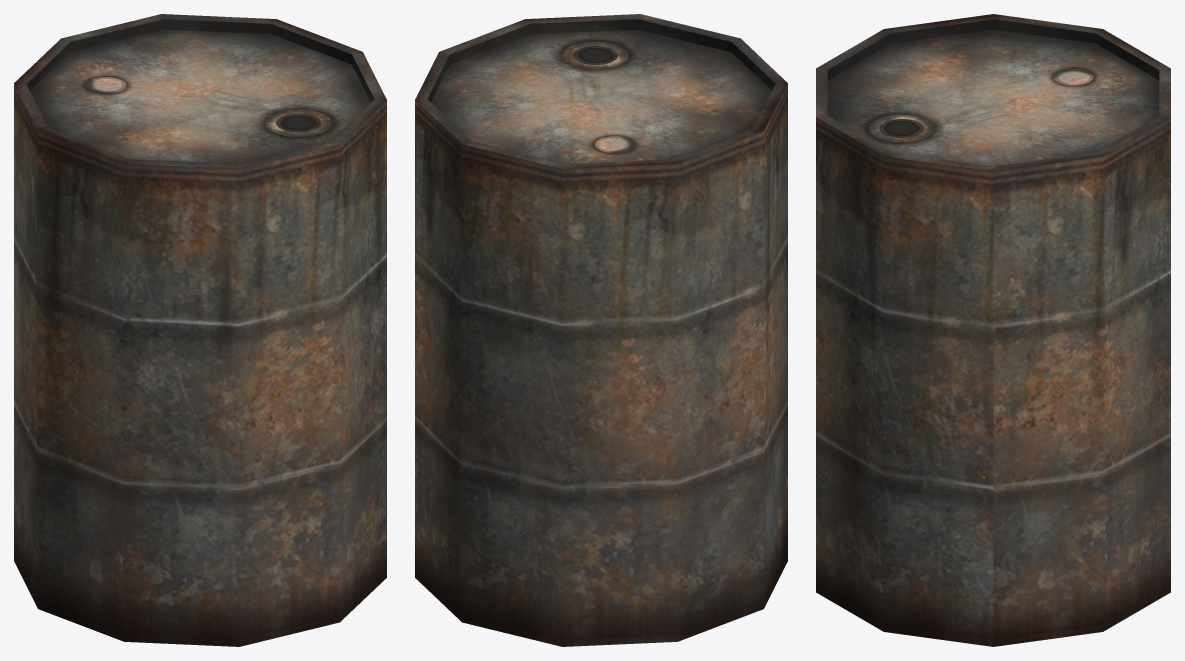
The model's file is barell.FBX.
3 views of the same model, side by side, from view 1: azimuth 30°, elevation 25°; view 2: azimuth 150°, elevation 25°; view 3: azimuth 270°, elevation 25° (orthographic).
Visible parts, largest first — view 1: objdefault; view 2: objdefault; view 3: objdefault.
Part boxes in pixels (x1=…): objdefault: x1=14, y1=14, x2=386, y2=646; objdefault: x1=415, y1=14, x2=787, y2=646; objdefault: x1=816, y1=14, x2=1170, y2=646.
Bounding box in the file's own units: 6.2 × 8.72 × 5.9.
Materials: 1 (1 with a texture image).
